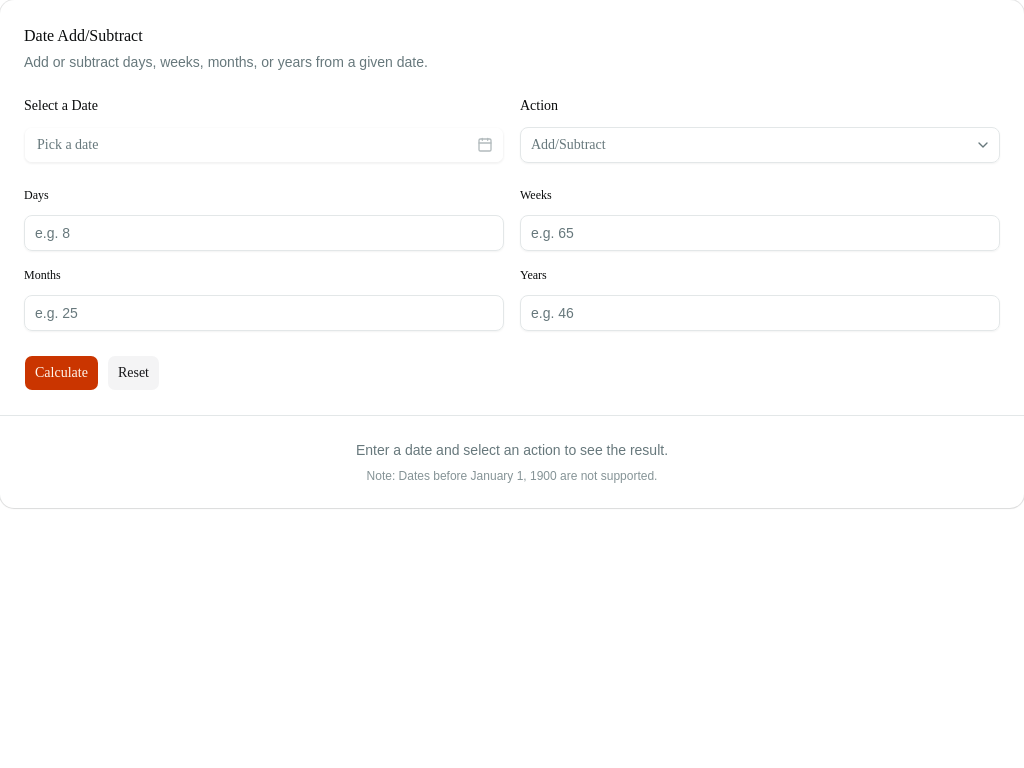
DateAddSubtract › onSubmit success › result shown for action=subtract weeks=2
The width and height of the screenshot is (1024, 768).
Click the button with id "calendar" at [68, 145], box [24,127,504,163]
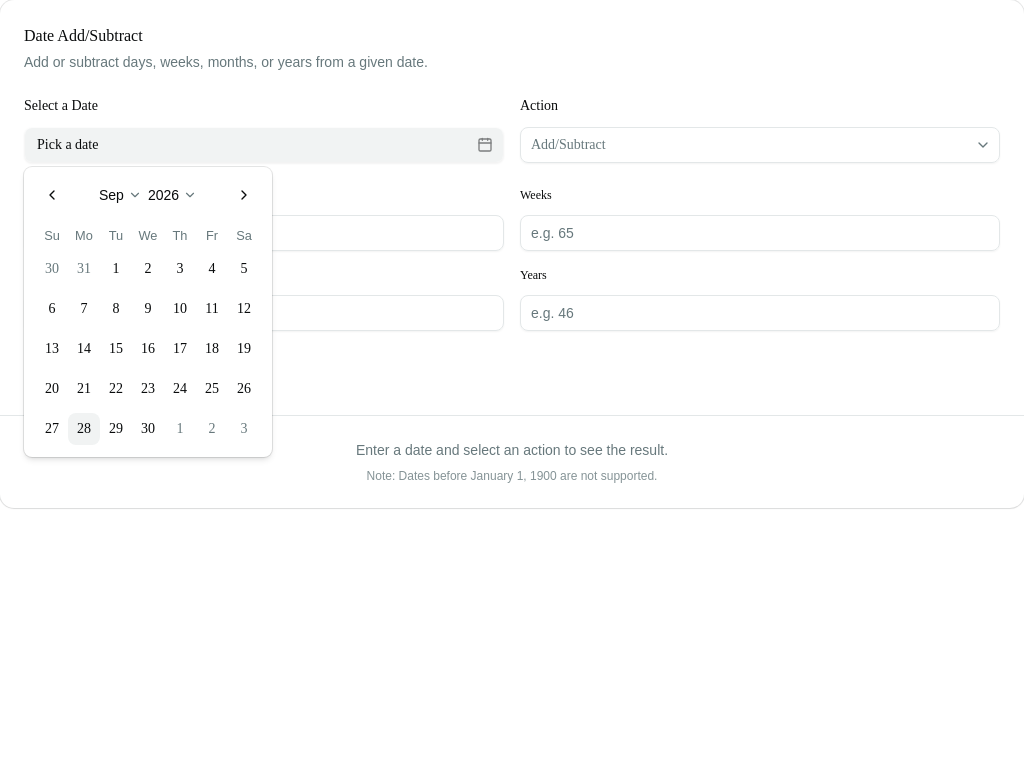
Click the 1st button "30" at [52, 269], box [36,253,68,285]
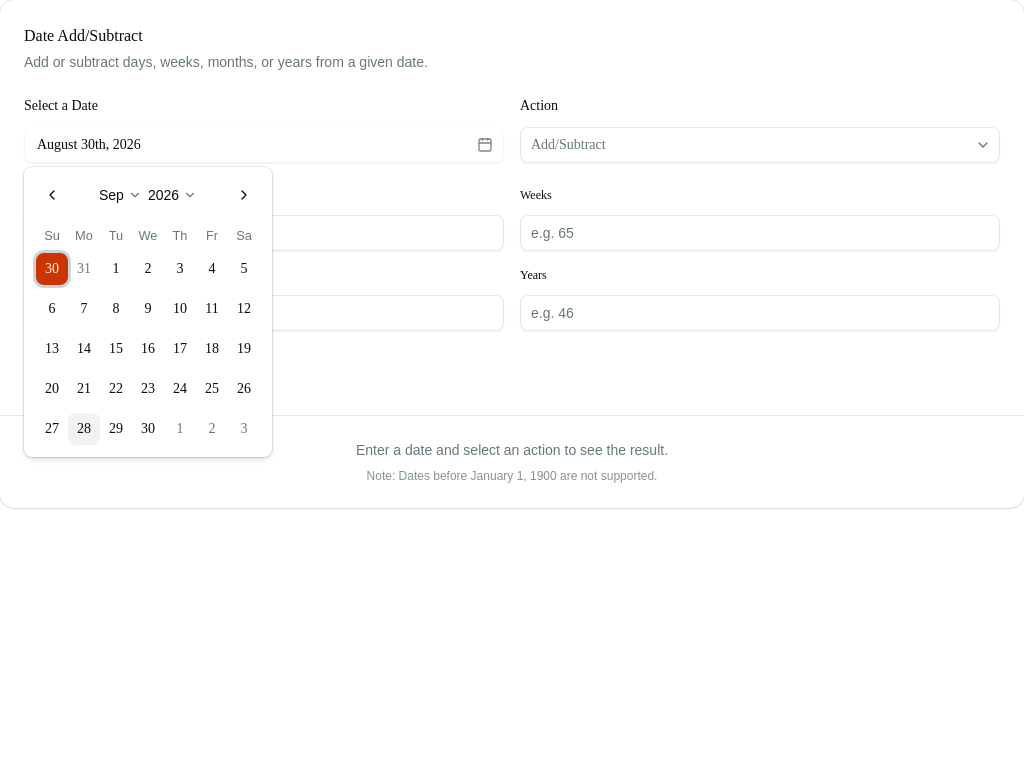
Click the dropdown with id "action" at [568, 145], box [520,127,1000,163]
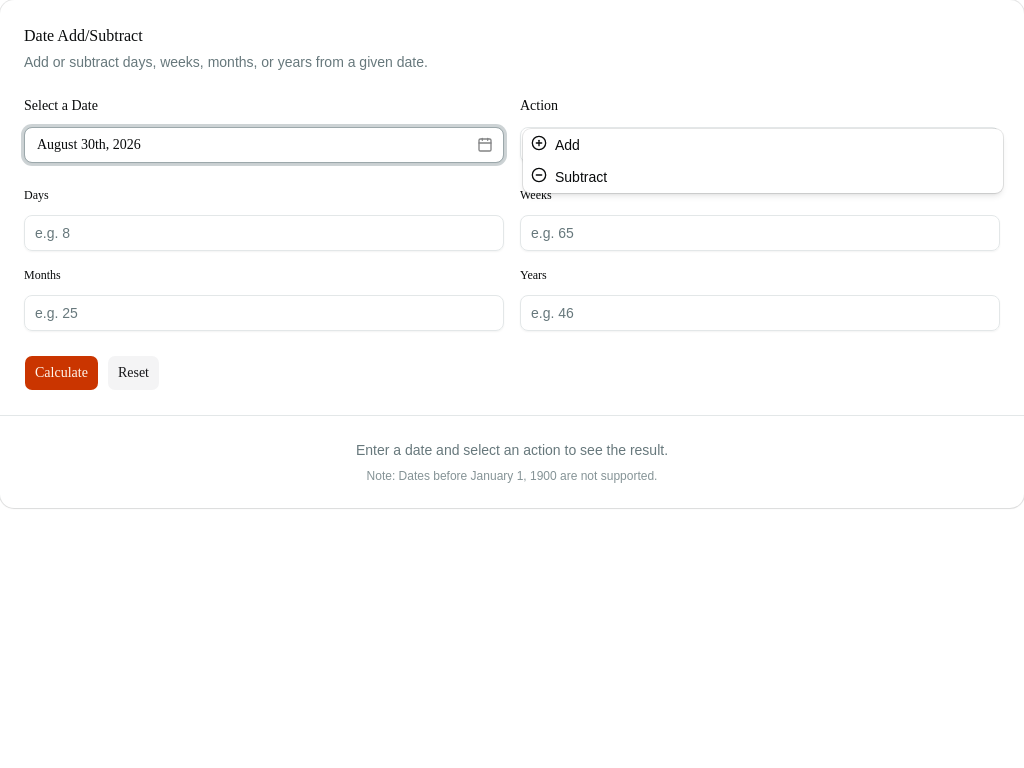
Click the option "Subtract" at [569, 176], box [531,167,607,185]
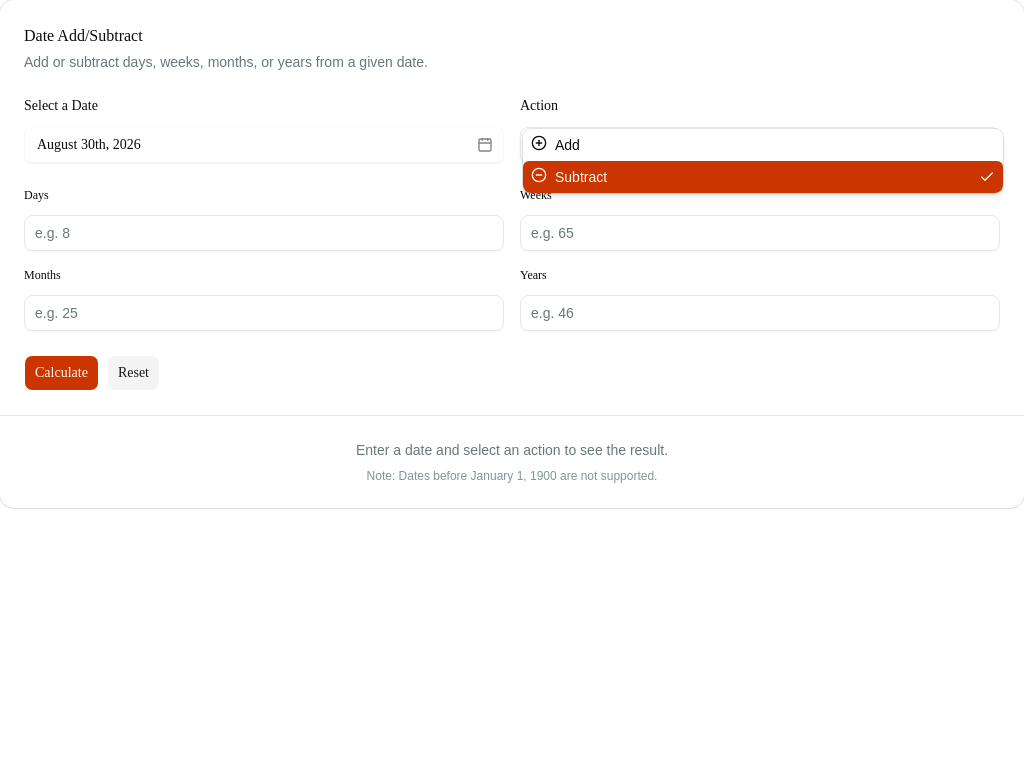
Type "2" into the field labelled "weeks" at [760, 233], box [520,215,1000,251]
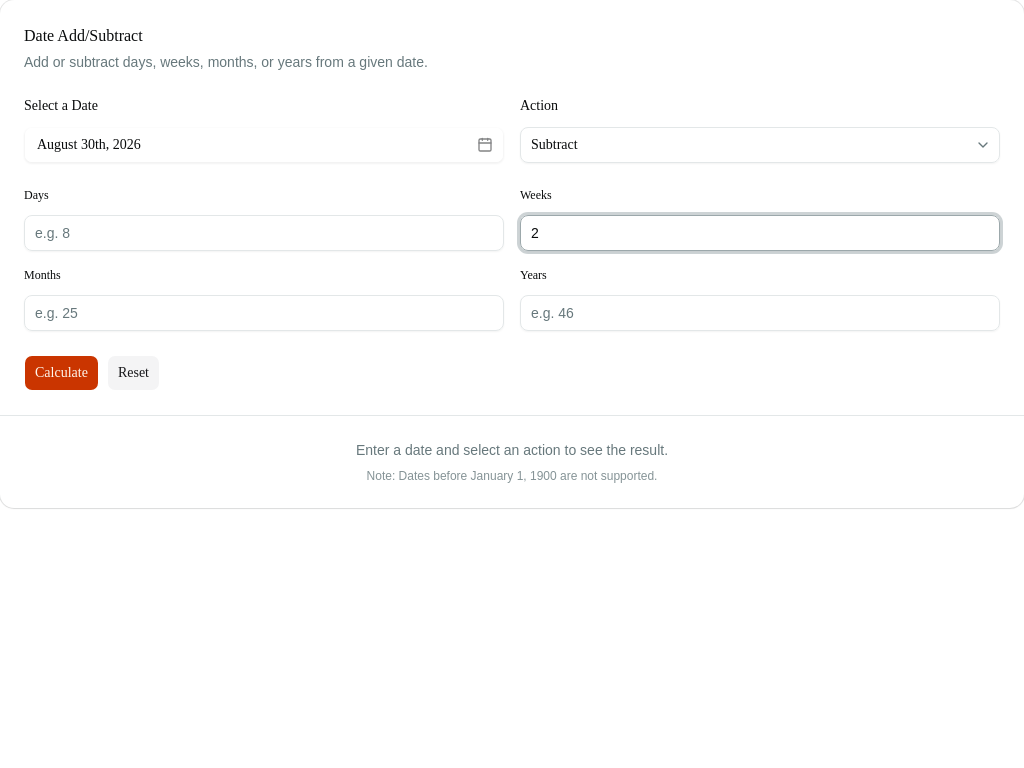
Click the button with aria-label "calculate date add/subtract" at [61, 373], box [24,355,99,391]
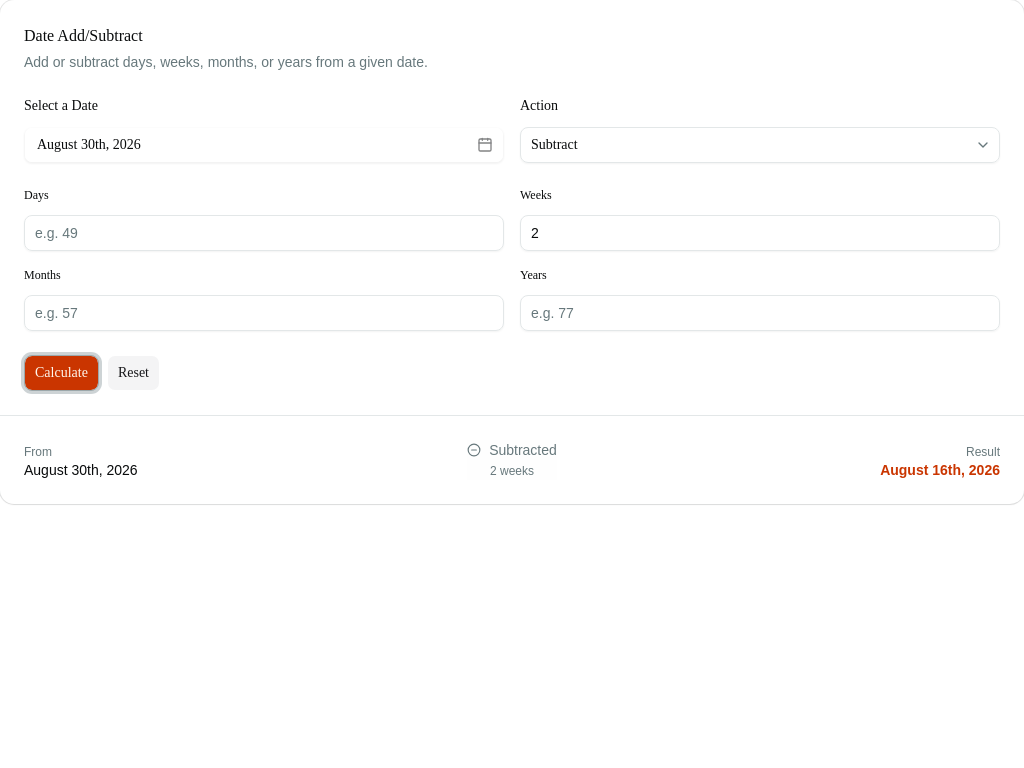
Expected: the text "subtracted" is shown, [489,440,557,460]
Expected: the text "2 weeks" is shown, [490,464,534,478]
